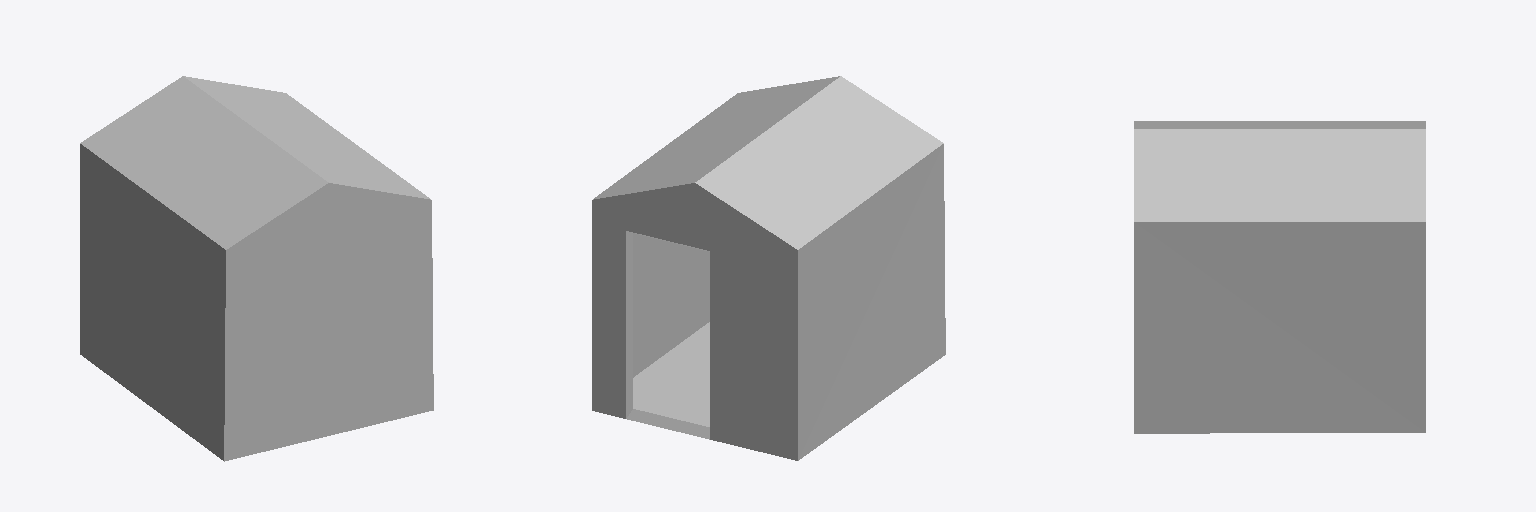
Rendered from shack.obj.
The picture shows the model from 3 angles: view 1: azimuth 30°, elevation 25°; view 2: azimuth 150°, elevation 25°; view 3: azimuth 270°, elevation 25°; orthographic projection.
Parts seen in each view (by area): view 1: shack_Cube.001; view 2: shack_Cube.001; view 3: shack_Cube.001.
Part boxes in pixels (x1,y1,x2,y2): shack_Cube.001: (80, 76, 433, 461); shack_Cube.001: (592, 76, 945, 460); shack_Cube.001: (1134, 121, 1425, 433).
Bounding box in the file's own units: 5.37 × 6.19 × 6.47.